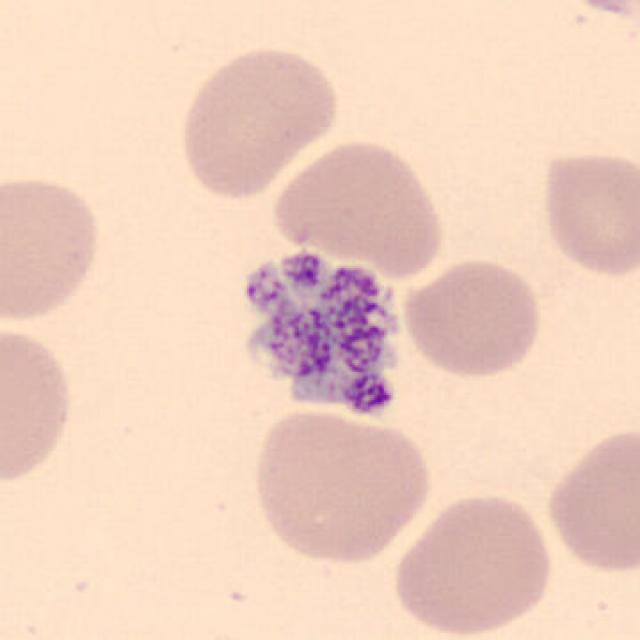Platelets: (257, 308, 327, 377), (328, 316, 386, 374), (314, 261, 382, 310), (343, 377, 396, 422), (238, 271, 292, 313), (278, 248, 327, 294)
RBC: (245, 404, 436, 566), (173, 41, 343, 201), (266, 134, 452, 275), (388, 488, 556, 640), (398, 254, 546, 381), (0, 169, 107, 328), (540, 422, 640, 576), (535, 144, 638, 280), (0, 319, 80, 490), (533, 0, 640, 21)
